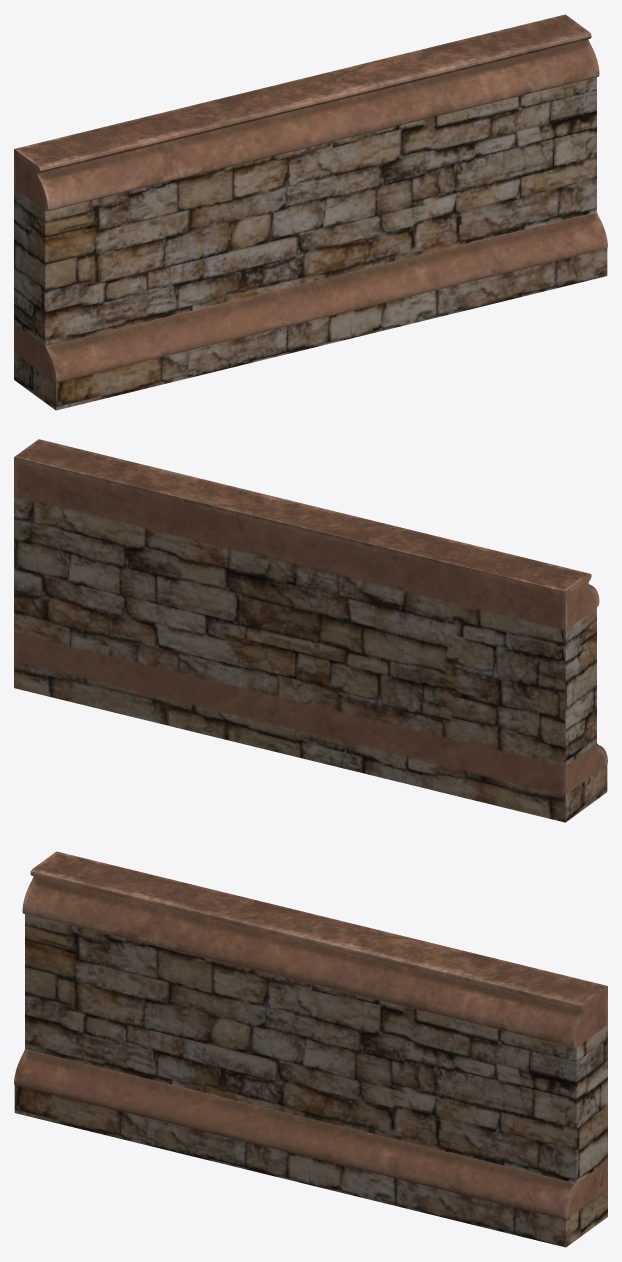
The model's file is SM_BaseWall_02_Plain.fbx.
3 renders of one model, top to bottom at view 1: azimuth 30°, elevation 25°; view 2: azimuth 150°, elevation 25°; view 3: azimuth 330°, elevation 25°, orthographic.
Visible parts, largest first — view 1: SM_BaseWall_02_Plain; view 2: SM_BaseWall_02_Plain; view 3: SM_BaseWall_02_Plain.
Boxes of the visible parts, x1,y1,x2,y2 form: SM_BaseWall_02_Plain: (14, 14, 607, 410); SM_BaseWall_02_Plain: (14, 439, 607, 822); SM_BaseWall_02_Plain: (14, 851, 607, 1247).
Bounding box in the file's own units: 300 × 120 × 40.
